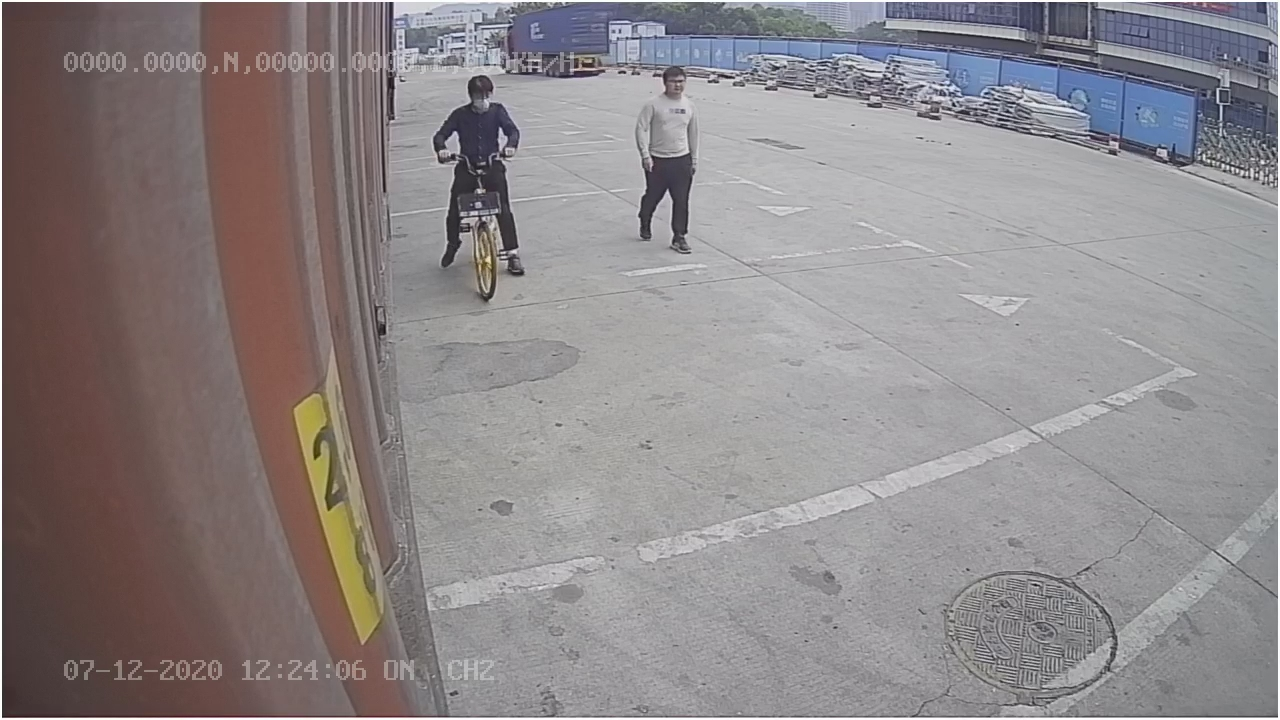person: (625, 60, 705, 258)
